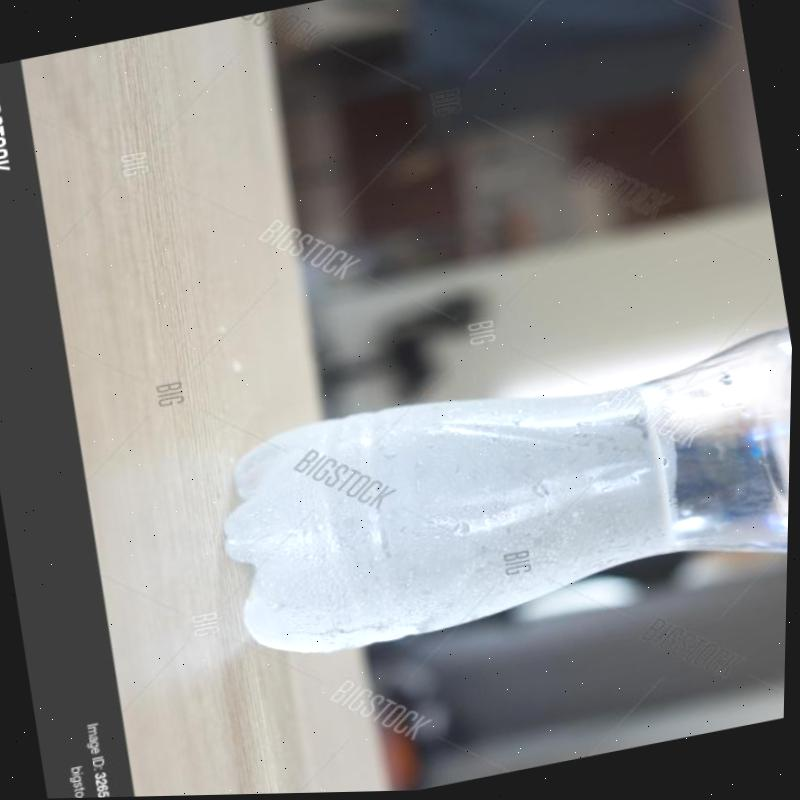botella: (208, 331, 794, 675)
